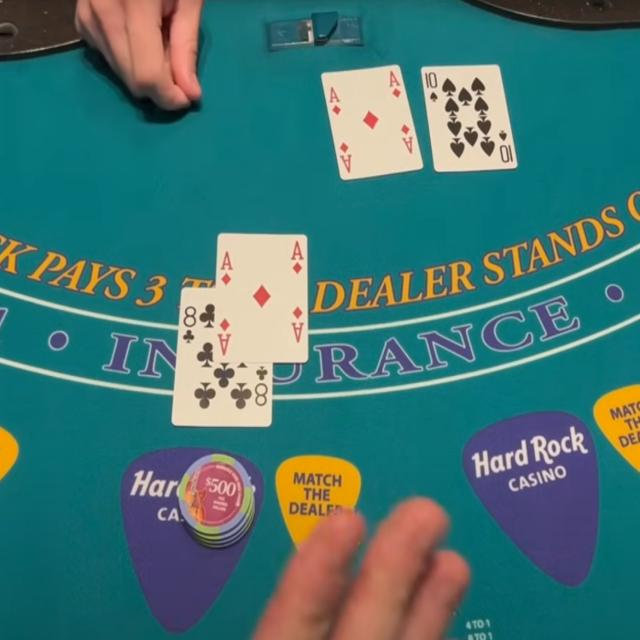10: (423, 70, 439, 90)
8: (181, 304, 198, 329)
A: (219, 248, 236, 272), (327, 84, 342, 104)
